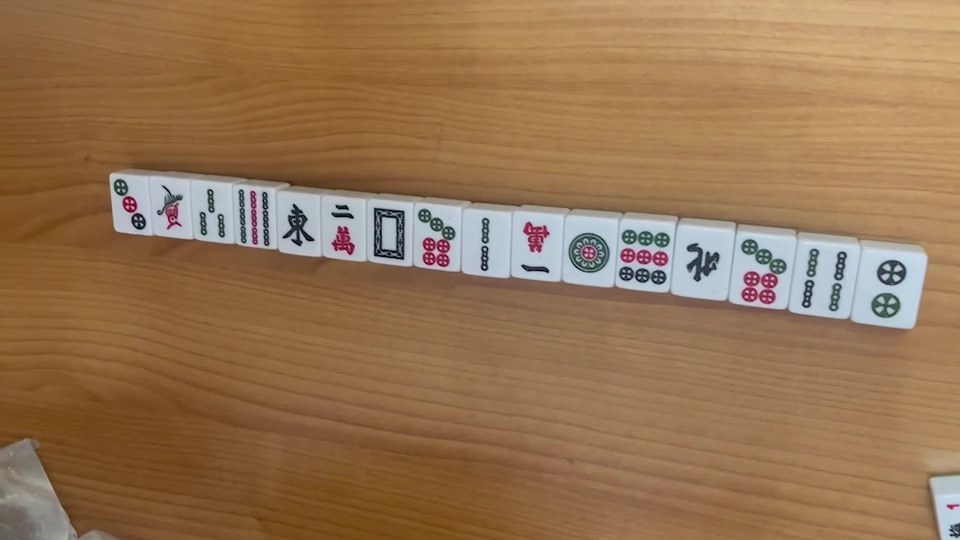b-1: (154, 182, 185, 229)
b-2: (471, 215, 497, 270)
b-3: (194, 184, 227, 240)
b-4: (797, 244, 849, 315)
b-9: (235, 187, 271, 246)
c-1: (515, 220, 556, 277)
c-2: (327, 199, 358, 257)
d-1: (565, 228, 612, 277)
d-2: (869, 256, 907, 319)
d-3: (110, 175, 148, 231)
d-7: (740, 237, 788, 304), (415, 207, 457, 268)
d-9: (618, 226, 669, 288)
honors-east: (280, 202, 317, 251)
honors-north: (681, 239, 722, 282)
honors-white: (370, 205, 408, 261)
